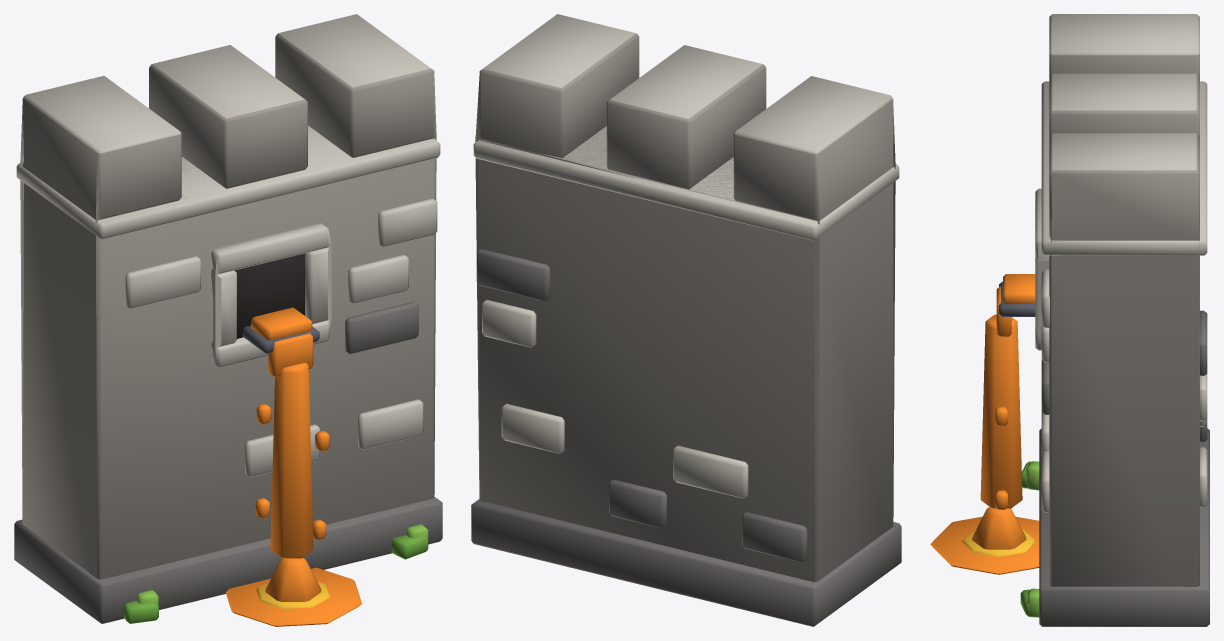
Rendered from B_MedMurderHole.fbx.
3 renders of one model, left to right at view 1: azimuth 30°, elevation 25°; view 2: azimuth 150°, elevation 25°; view 3: azimuth 270°, elevation 25°, orthographic. The views are drawn at different scales.
Parts seen in each view (by area): view 1: M_MurderHole; view 2: M_MurderHole; view 3: M_MurderHole.
Boxes of the visible parts, bbox=[...] form: M_MurderHole: bbox=[14, 14, 442, 626]; M_MurderHole: bbox=[471, 14, 901, 626]; M_MurderHole: bbox=[930, 14, 1209, 626].
Bounding box in the file's own units: 3.06 × 4 × 2.23.
1 material, 1 textured.
